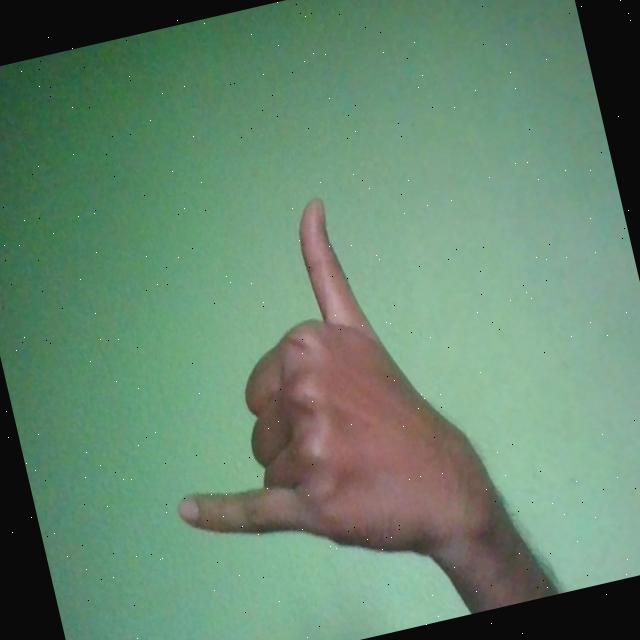Call Me: (115, 174, 505, 604)
